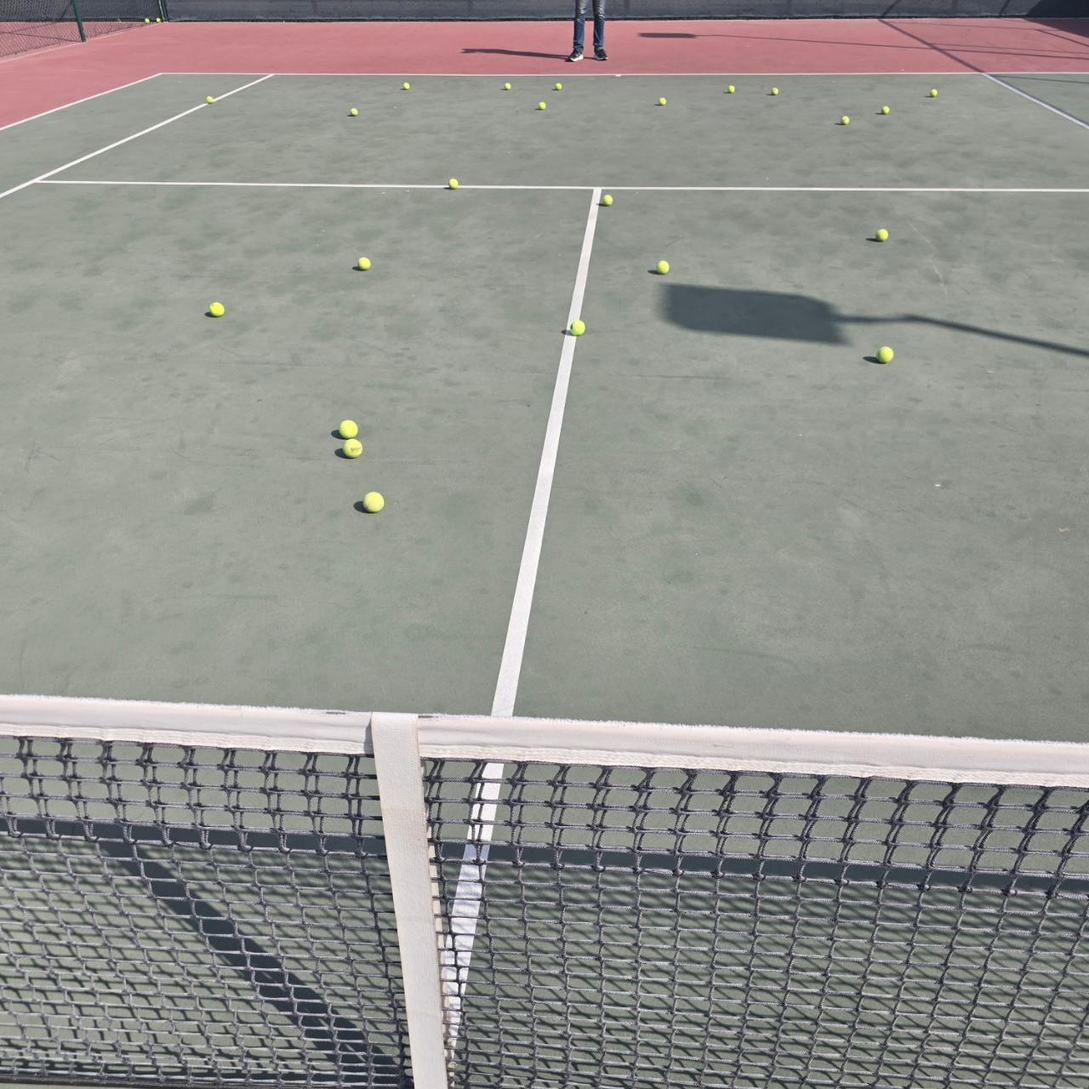tennis-ball: (362, 488, 385, 512), (337, 417, 358, 439), (343, 437, 362, 458), (207, 299, 225, 317), (567, 317, 585, 335), (876, 344, 893, 362), (355, 254, 371, 271), (655, 258, 670, 273), (875, 226, 888, 241), (601, 194, 613, 206), (448, 179, 459, 189), (841, 116, 850, 125), (350, 108, 358, 117), (658, 98, 667, 106), (538, 102, 546, 110), (771, 87, 779, 95), (881, 106, 889, 114), (930, 89, 938, 97), (554, 83, 562, 90), (403, 82, 410, 90), (728, 86, 735, 93), (206, 96, 213, 103), (505, 83, 511, 90), (145, 19, 150, 23), (156, 18, 160, 22)
